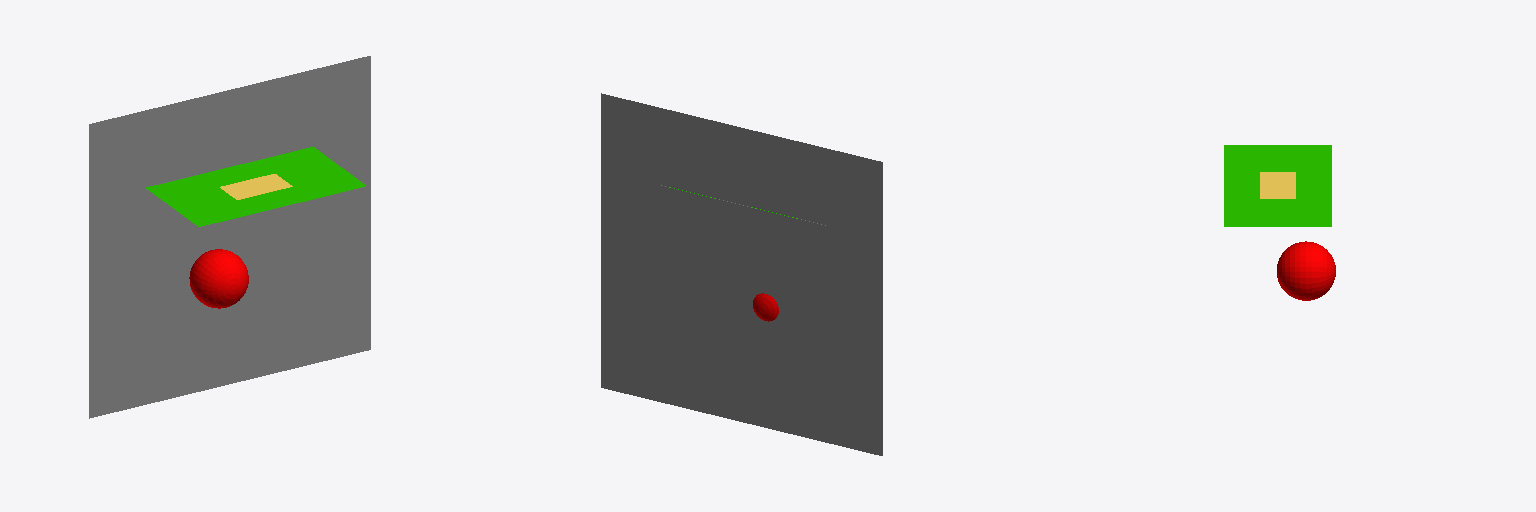
Rendered from areaLight.obj.
3 views of the same model, side by side, from view 1: azimuth 30°, elevation 25°; view 2: azimuth 150°, elevation 25°; view 3: azimuth 270°, elevation 25° (orthographic).
Parts seen in each view (by area): view 1: Plane001, Plane002, Sphere001; view 2: Plane001, Sphere001; view 3: Plane002, Sphere001.
Part boxes in pixels (x1,y1,x2,y2): Plane001: (89,56,370,418); Plane002: (146,147,365,226); Sphere001: (189,249,248,308); Plane001: (601,93,882,455); Sphere001: (753,293,778,321); Plane002: (1224,145,1331,226); Sphere001: (1277,241,1335,300).
Bounding box in the file's own units: 100 × 100 × 34.52.